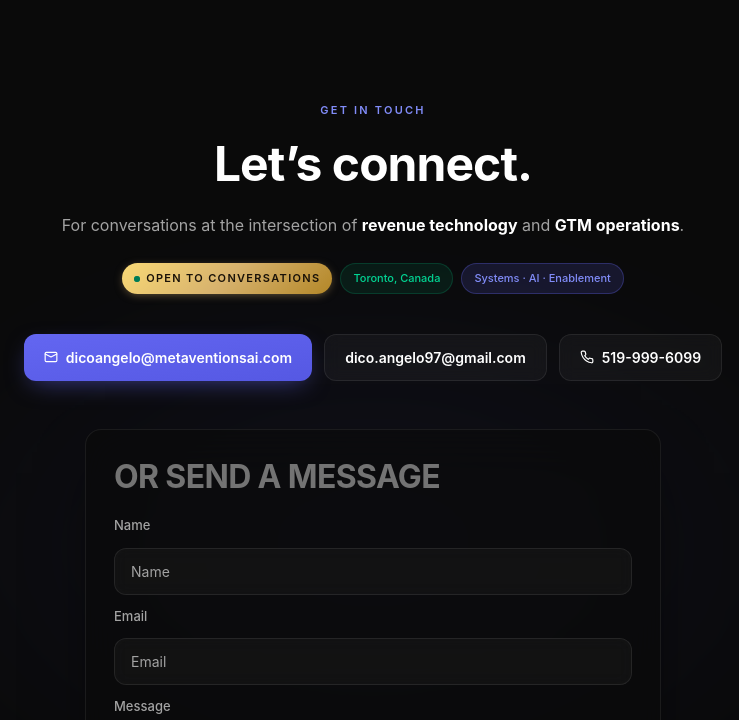
Scenario: contact form › does not show success for an unexpected successful HTTP response
The image size is (739, 720).
Type "A Visitor" into the field labelled "Name" at {"x": 373, "y": 571}, box [114,548,632,595]
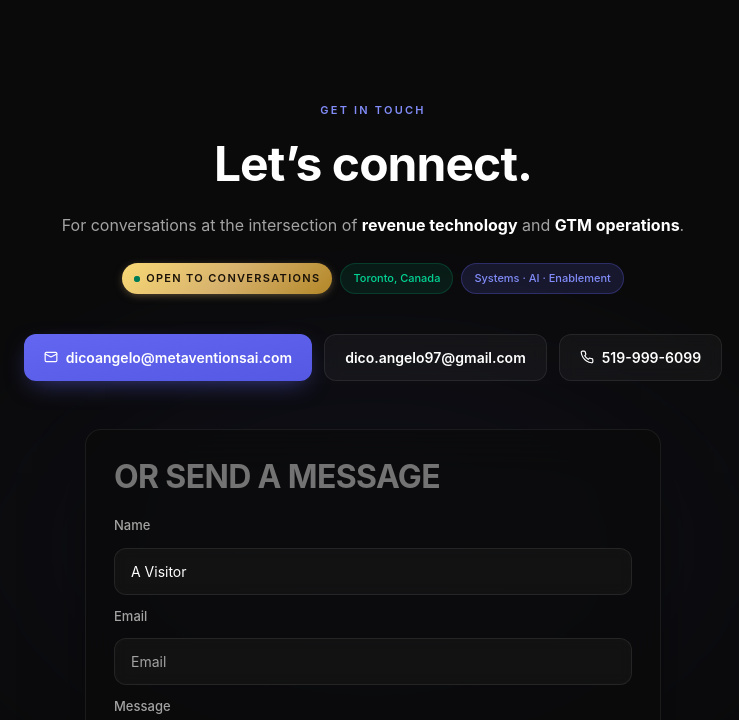
Type "visitor@example.com" into the field labelled "Email" at {"x": 373, "y": 662}, box [114,638,632,685]
(page scrolled)
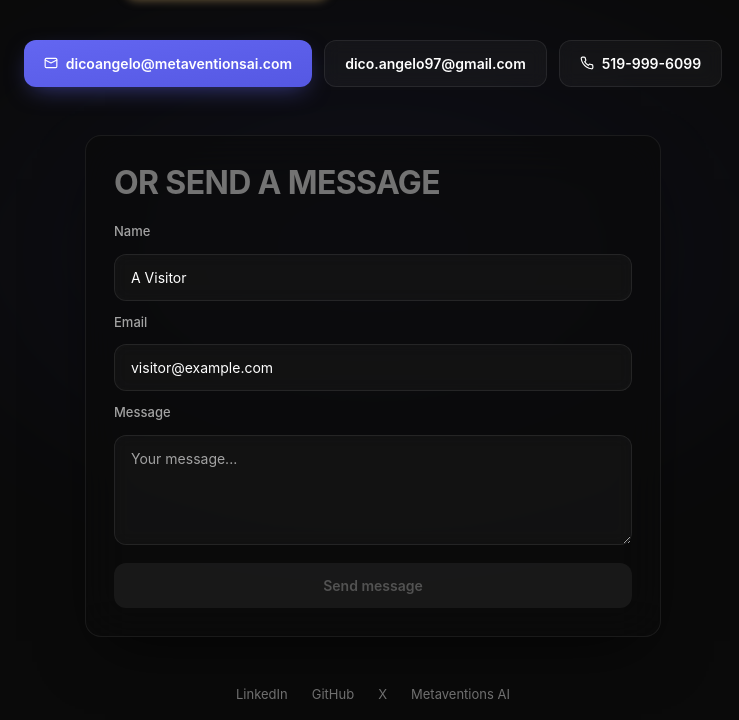
Type "Let's discuss a project." into the text box labelled "Message" at {"x": 373, "y": 490}, box [114,435,632,545]
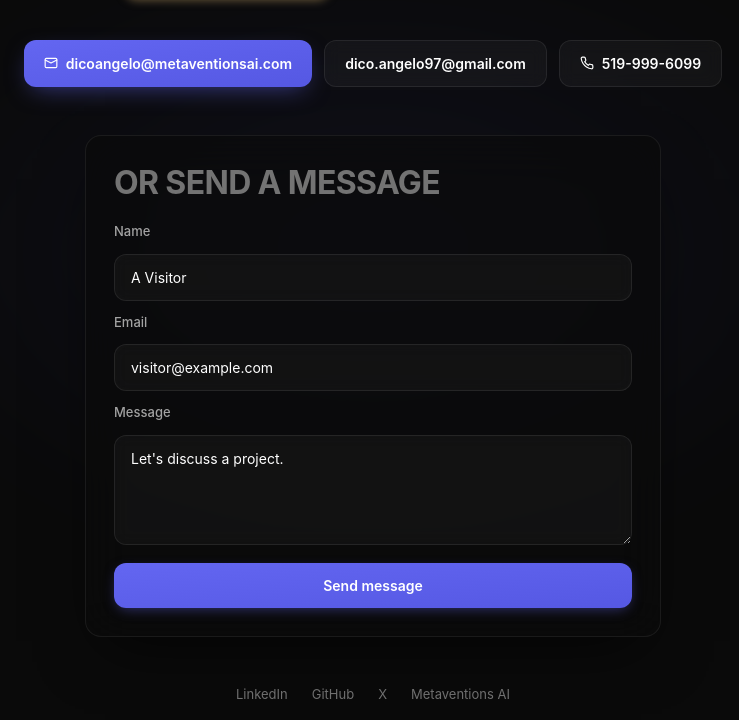
Click the button "Send message" at {"x": 373, "y": 585}, box [114,563,632,608]
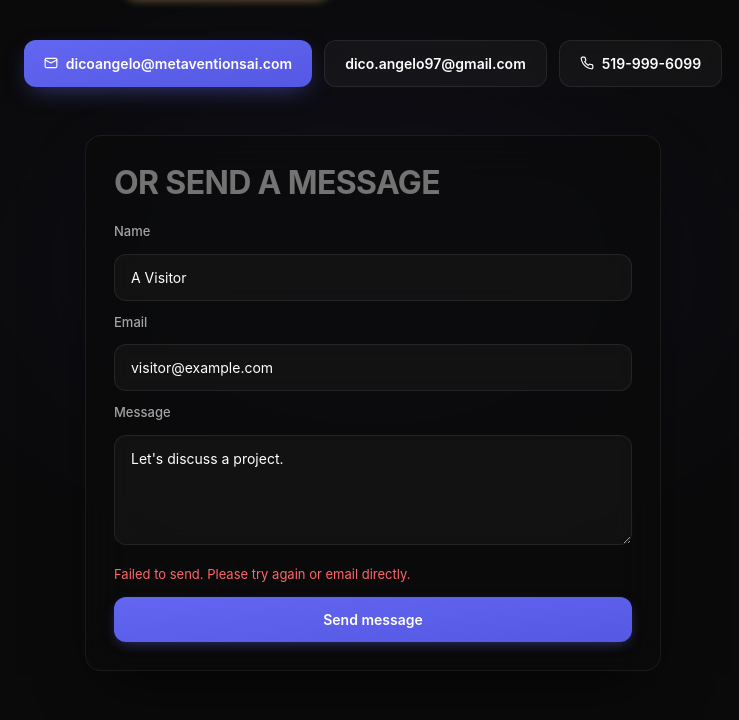
Check: the message shows "Failed to send.", box [114,566,410,582]
